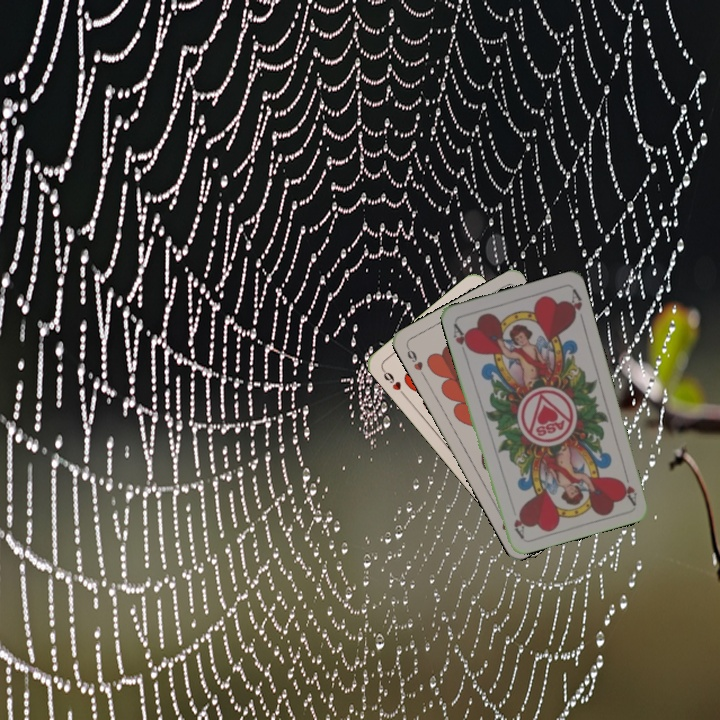H9: (378, 365, 408, 399), (403, 343, 428, 380)
HA: (449, 319, 474, 358), (616, 466, 639, 506)
